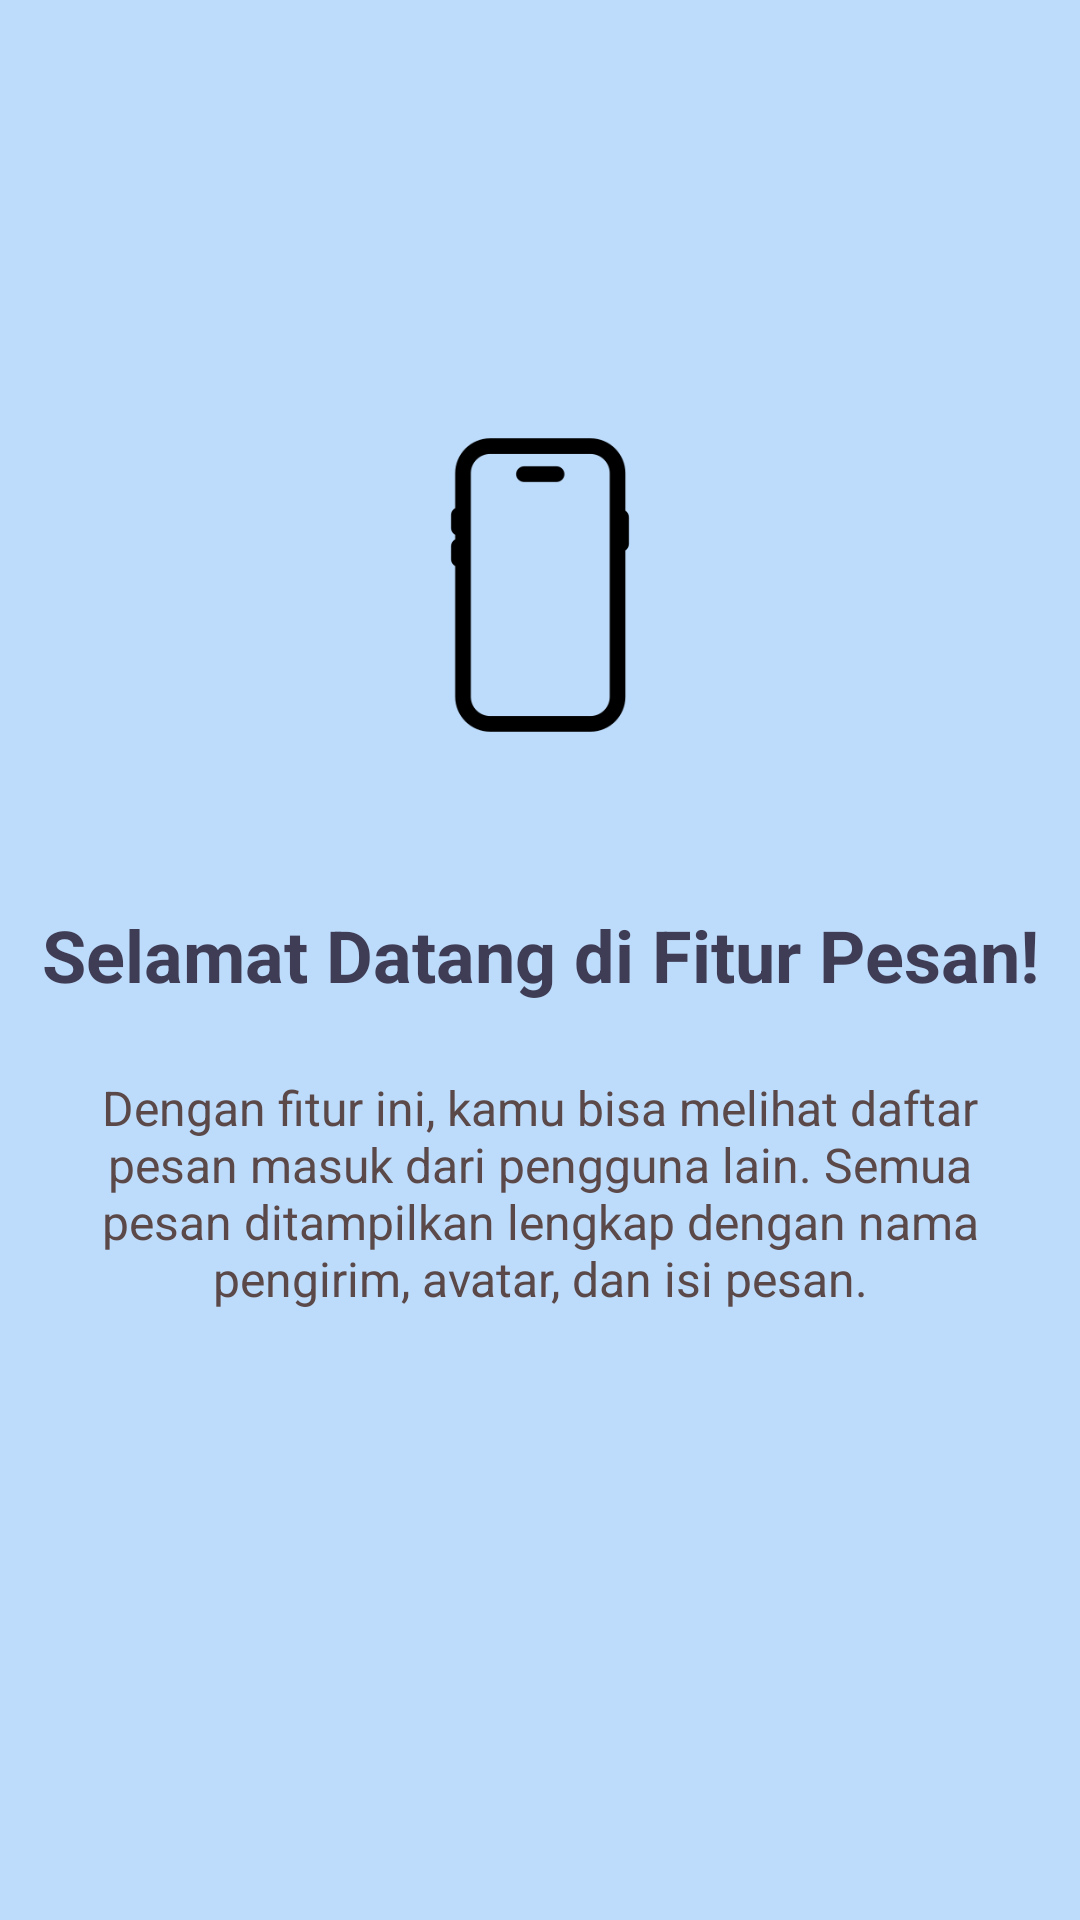

Icons on this 1080 x 1920 Android screen, each with the point to tap as (x,y):
handphone: (540,585)
